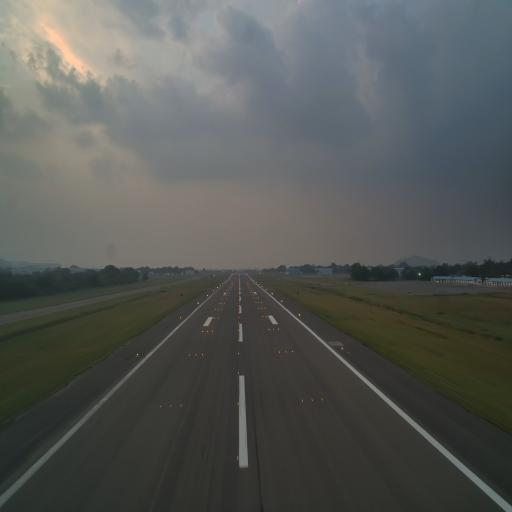on: (236, 453, 240, 464), (158, 403, 163, 411), (179, 402, 183, 409), (340, 345, 344, 352), (237, 399, 240, 408), (169, 403, 173, 409), (301, 396, 304, 404), (320, 396, 324, 402), (311, 397, 314, 404), (187, 352, 191, 357), (136, 352, 139, 358), (284, 350, 288, 354), (278, 350, 281, 355), (291, 349, 294, 354), (237, 351, 240, 355), (237, 371, 240, 375), (202, 352, 204, 357), (195, 353, 197, 357)
